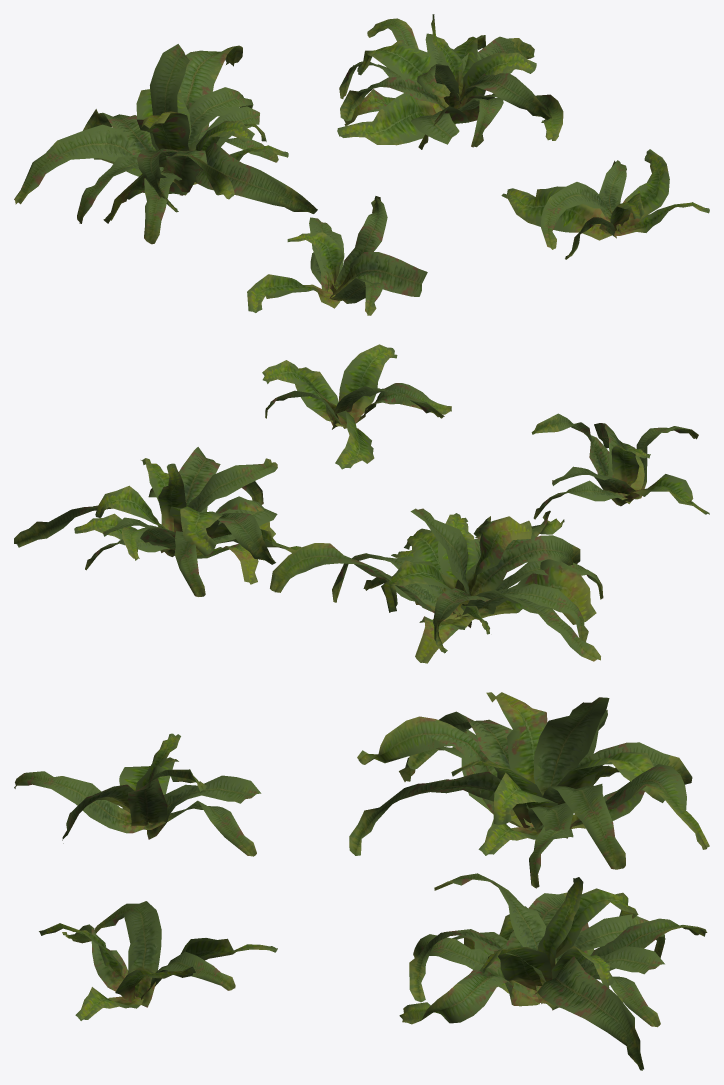
Rendered from fern_02.glb.
The picture shows the model from 3 angles, top to bottom: view 1: azimuth 30°, elevation 25°; view 2: azimuth 150°, elevation 25°; view 3: azimuth 270°, elevation 25°; orthographic projection. The views are drawn at different scales.
Visible parts, largest first — view 1: fern_02_b; view 2: fern_02_b; view 3: fern_02_b.
Boxes of the visible parts, x1,y1,x2,y2 form: fern_02_b: (14,14,709,315); fern_02_b: (14,344,709,663); fern_02_b: (14,692,709,1070).
Bounding box in the file's own units: 1.97 × 0.4277 × 1.72.
1 material, 1 textured.
